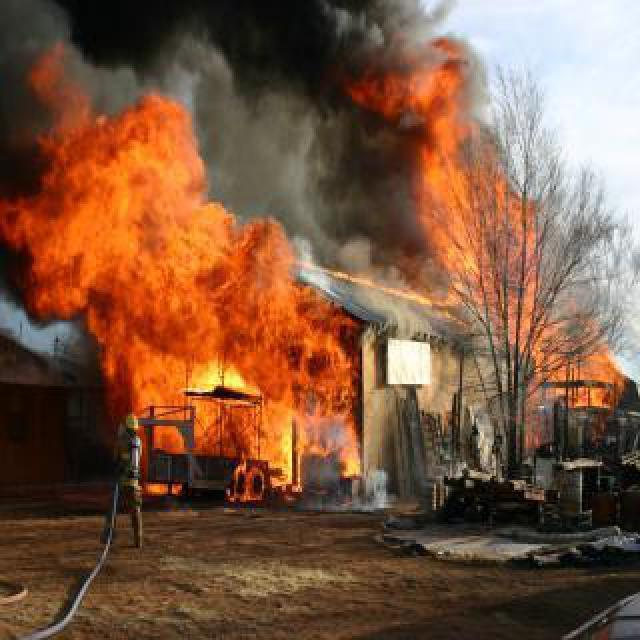Fire: (98, 222, 358, 456), (2, 90, 208, 224), (420, 128, 536, 316), (2, 220, 96, 338), (530, 322, 620, 410), (356, 64, 474, 128), (344, 276, 420, 308), (222, 456, 268, 504)
Smoke: (208, 2, 358, 218), (296, 132, 418, 268), (294, 460, 390, 520), (364, 300, 434, 340)
